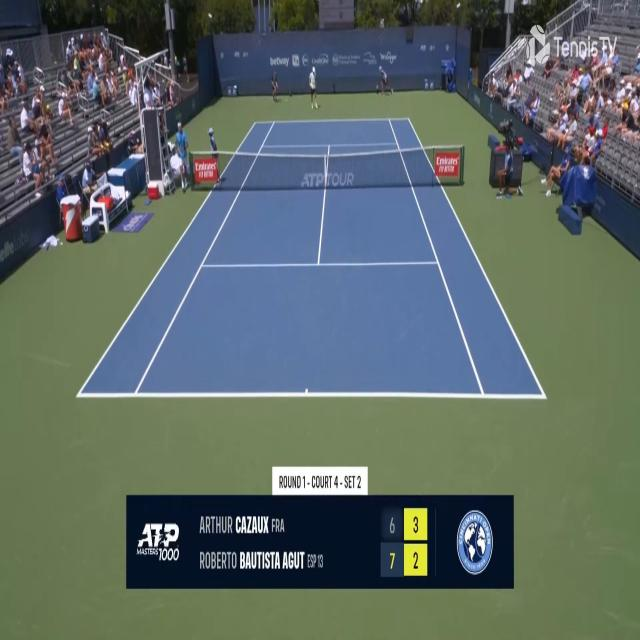tennis-player: (308, 66, 319, 111)
